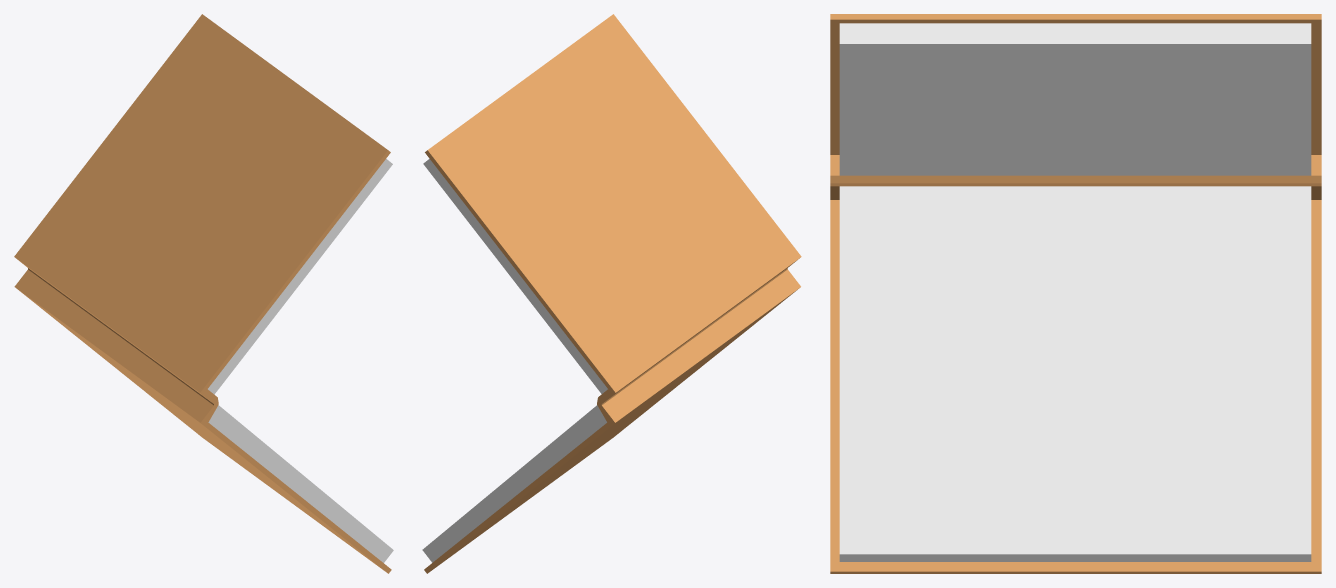
File: book_opened.glb
3 renders of one model, left to right at view 1: azimuth 30°, elevation 25°; view 2: azimuth 150°, elevation 25°; view 3: azimuth 270°, elevation 25°, orthographic. The views are drawn at different scales.
Visible parts, largest first — view 1: Book; view 2: Book; view 3: Book.
Boxes of the visible parts, bbox=[...] form: Book: bbox=[14, 14, 393, 573]; Book: bbox=[422, 14, 801, 573]; Book: bbox=[830, 14, 1321, 573].
Size of the model in its own units: 1.48 by 3.04 by 2.42.
